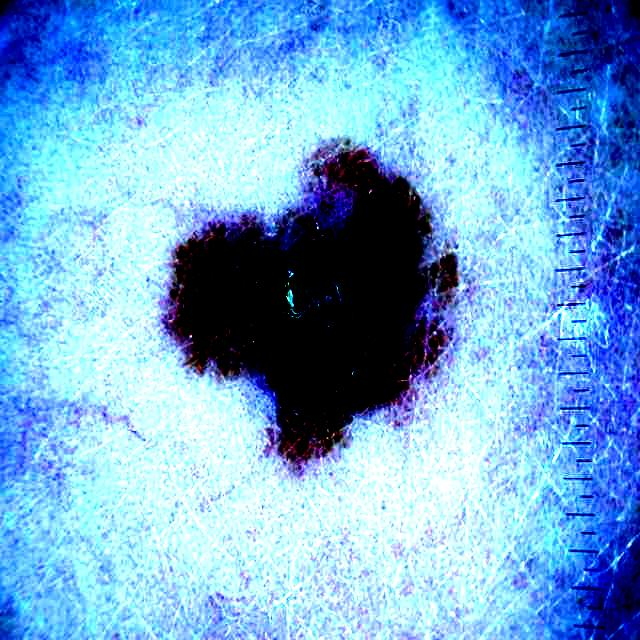MEL: (166, 139, 459, 459)
